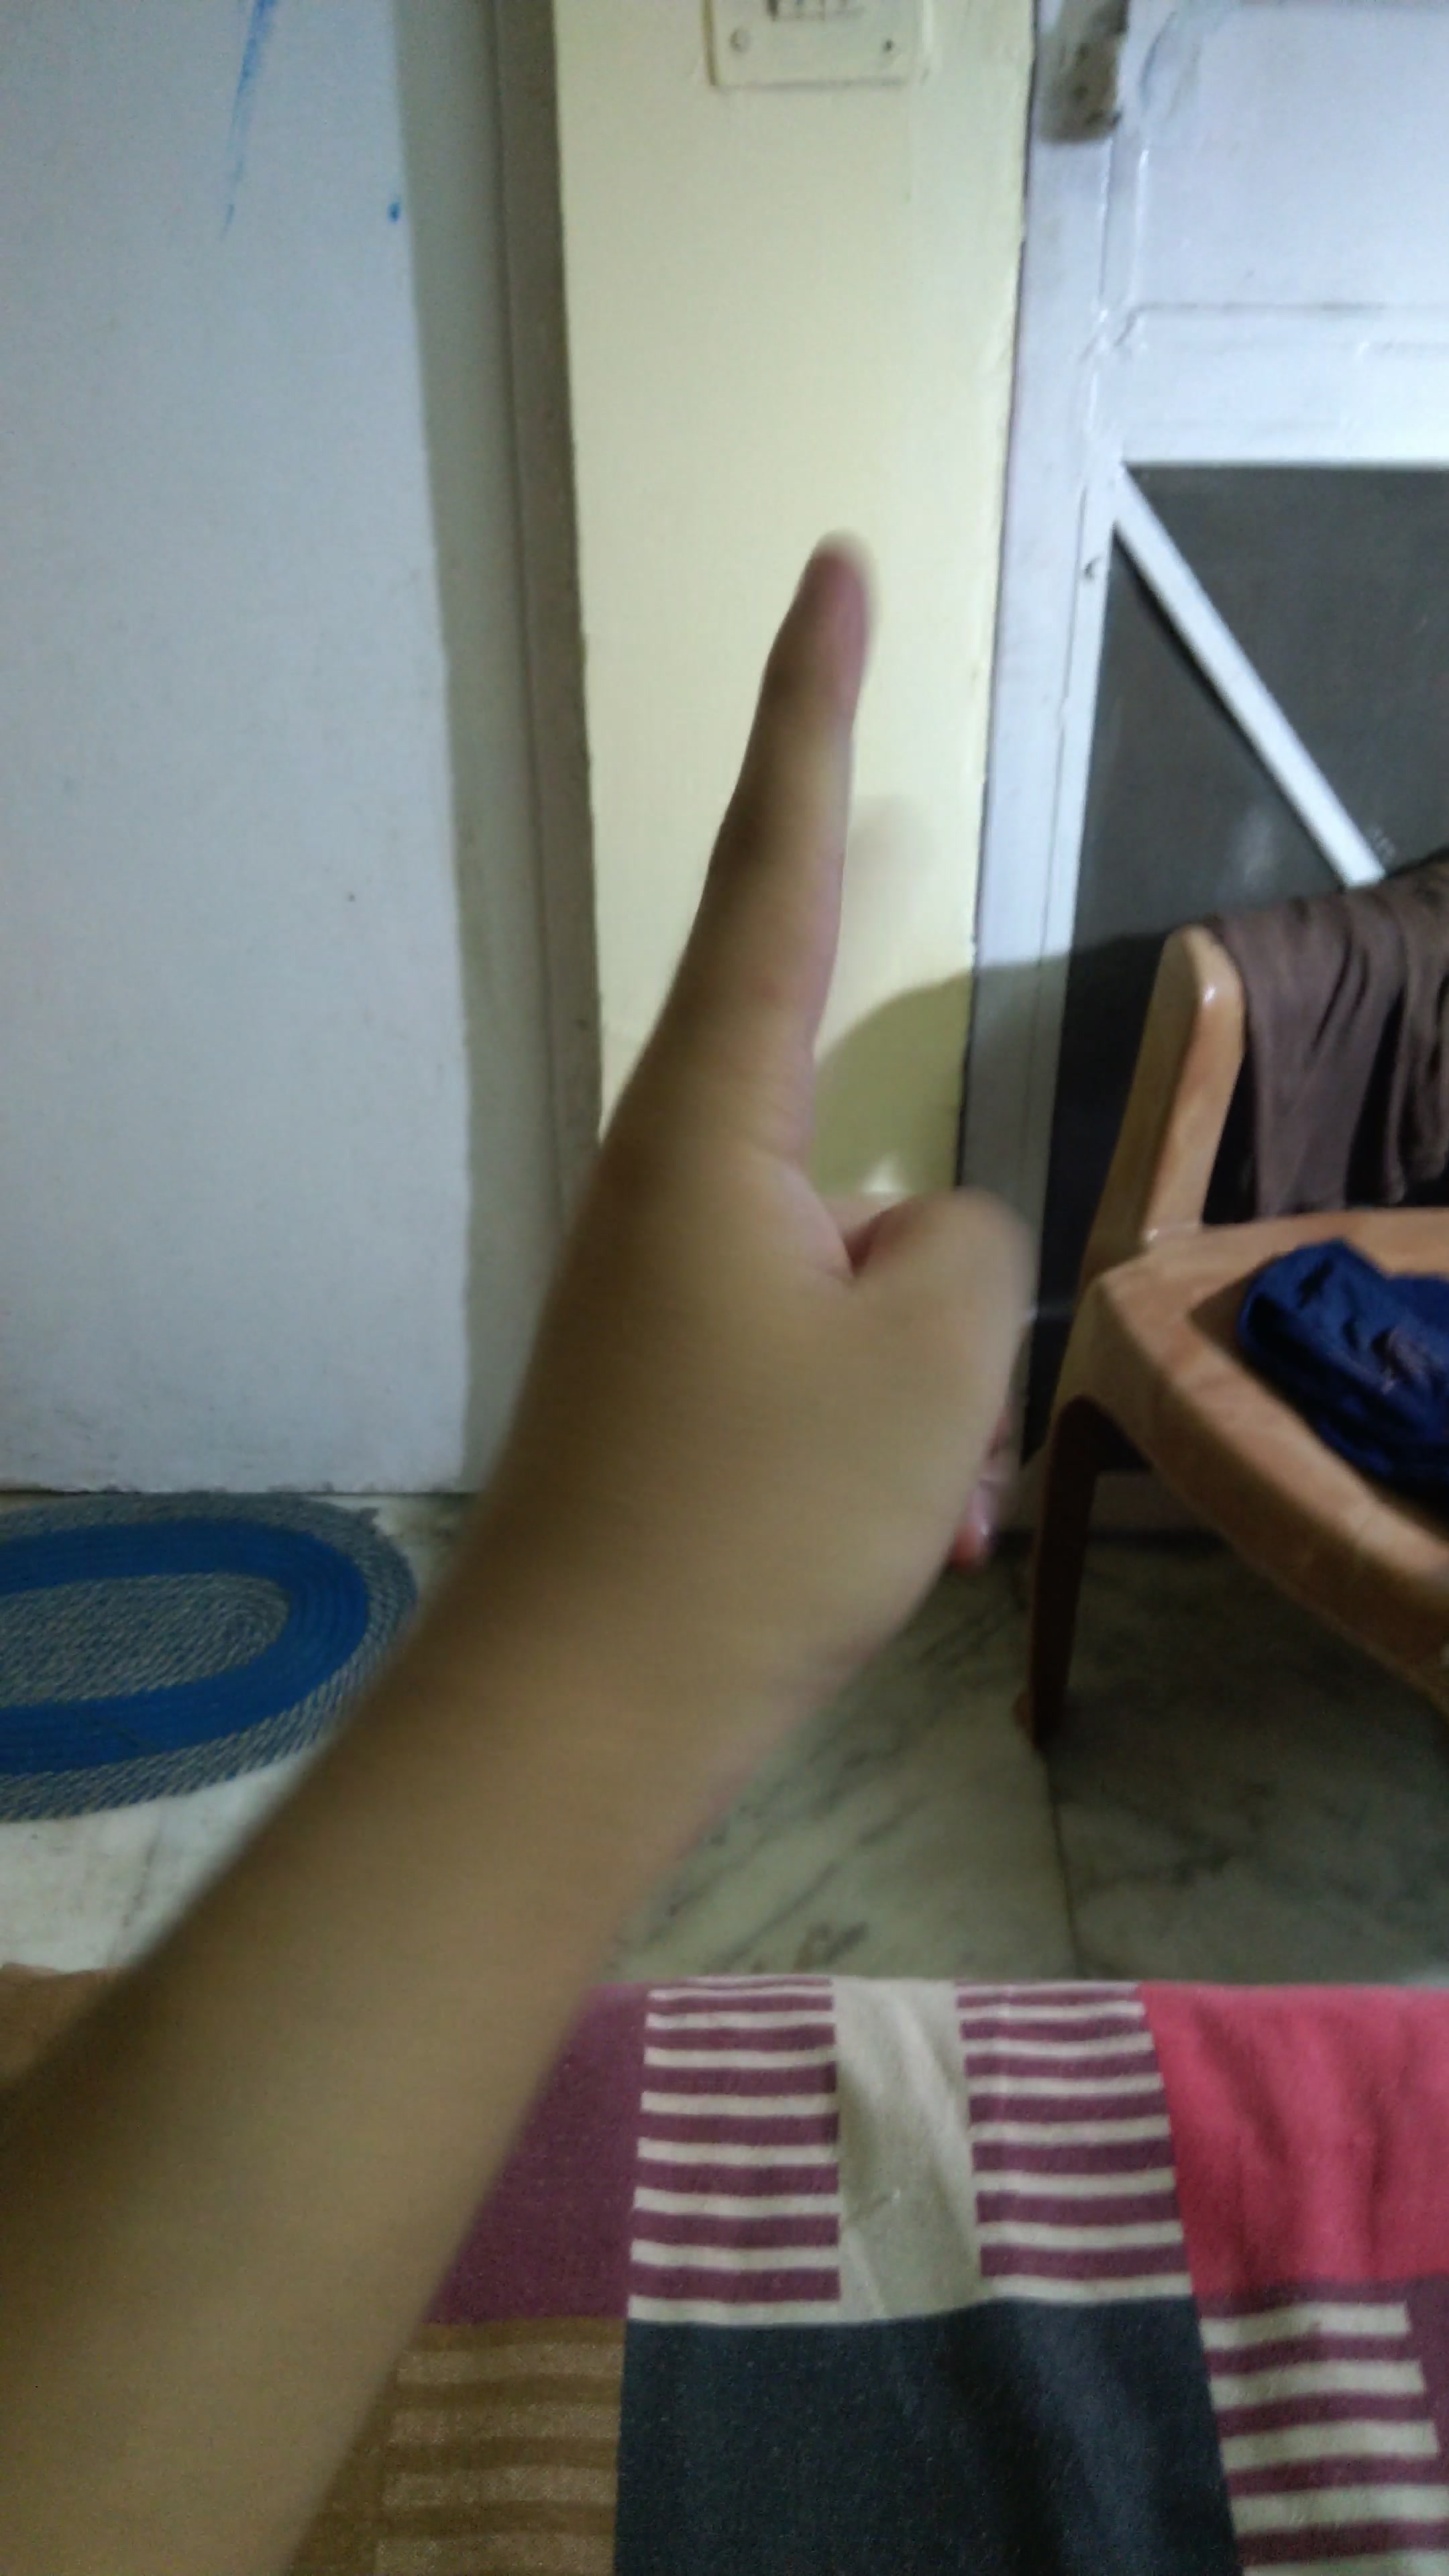hand: (368, 518, 1175, 1861)
